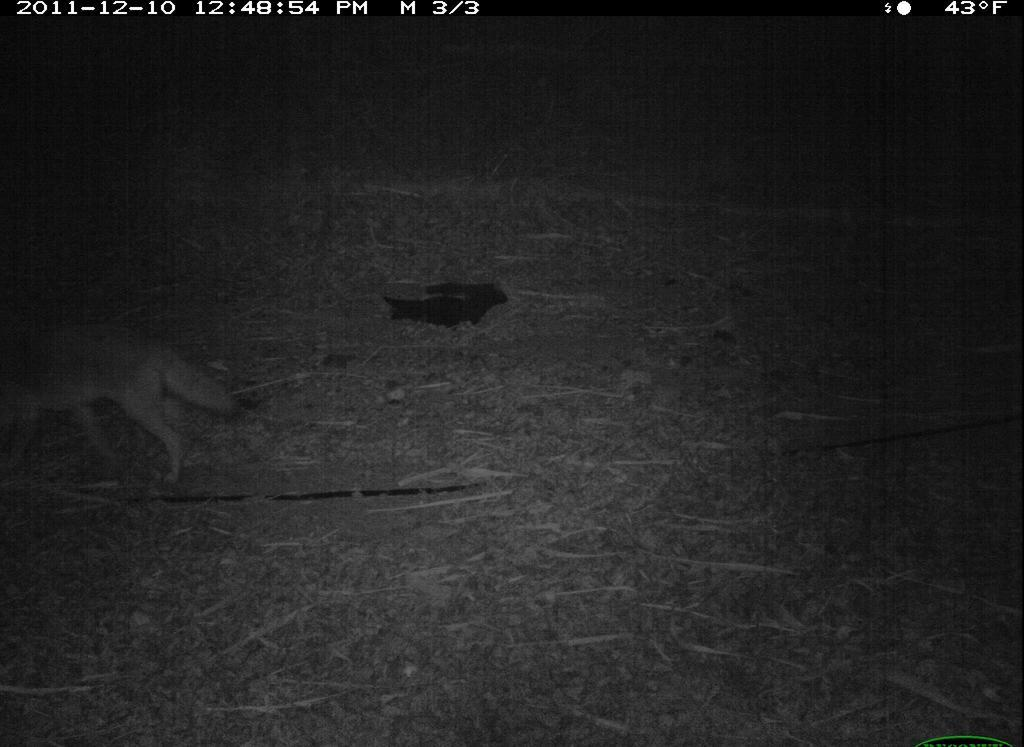coyote: (11, 295, 237, 507)
